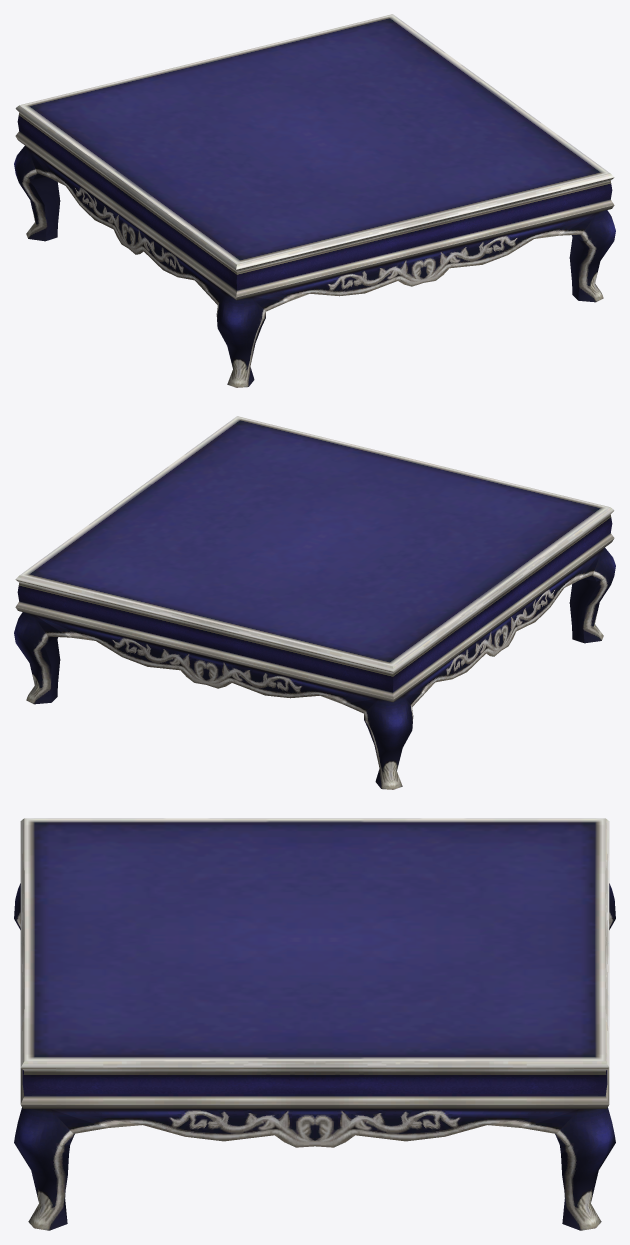
Rendered from furni_0201105.FBX.
3 views of the same model, one above another, from view 1: azimuth 30°, elevation 25°; view 2: azimuth 150°, elevation 25°; view 3: azimuth 270°, elevation 25° (orthographic). The views are drawn at different scales.
Parts seen in each view (by area): view 1: furni_0201105; view 2: furni_0201105; view 3: furni_0201105.
Boxes of the visible parts, <box> form: furni_0201105: <box>14,14,615,387</box>; furni_0201105: <box>14,416,615,789</box>; furni_0201105: <box>14,818,615,1230</box>.
Bounding box in the file's own units: 163 × 50.02 × 161.
1 material, 1 textured.
